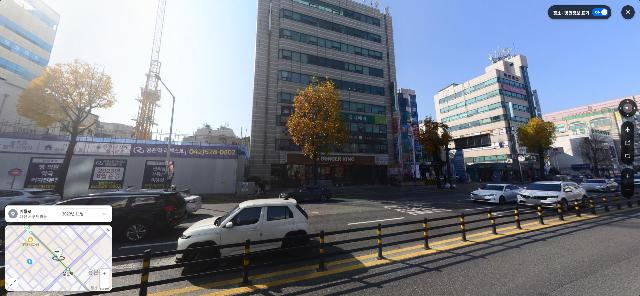ginkgo: (15, 57, 120, 199), (284, 75, 352, 186)
other: (416, 116, 454, 190), (516, 118, 556, 181), (575, 126, 616, 176), (607, 118, 639, 174)
